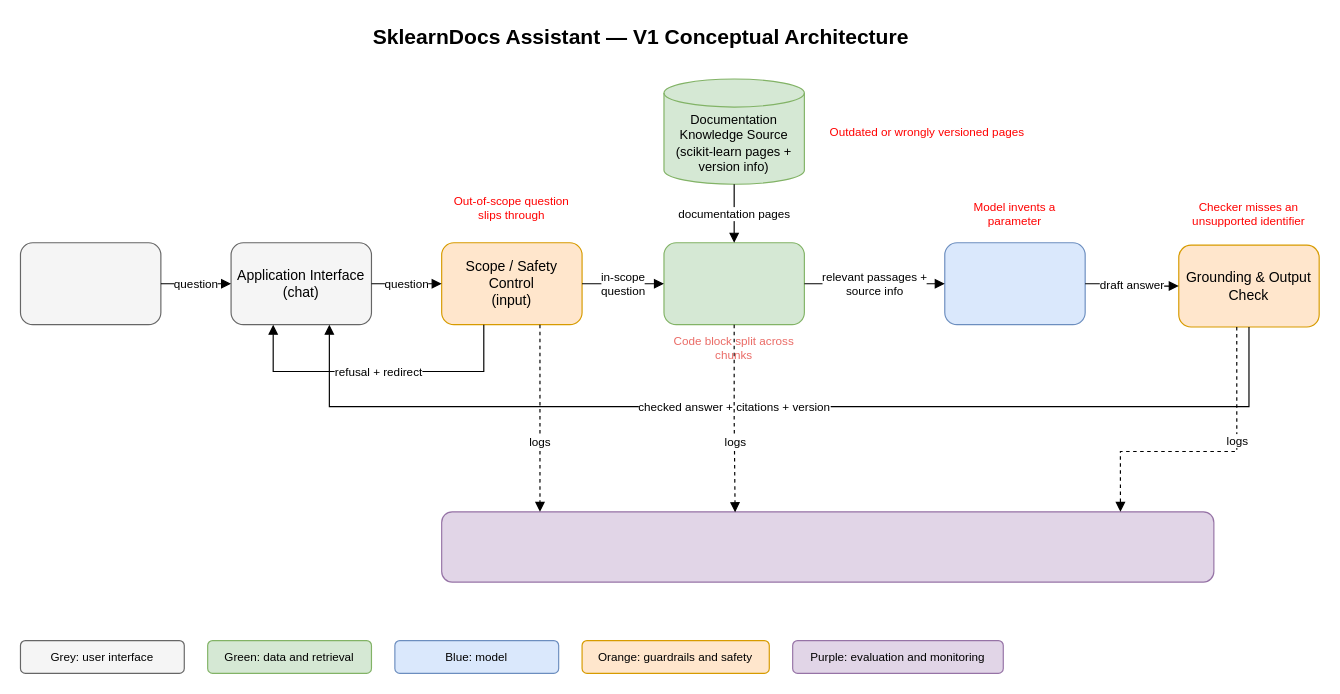
Image size: 1340x694. Some labels were removed from this diagram. The shapes that lost their labels are listed below. From the top down, each one's centre as x and y in pixels, then its label:
[90,283]: User (student / developer)
[733,283]: Knowledge Access (retrieval)
[1014,283]: Language Model Service
[827,546]: Evaluation Point (question set, logs of latency, cost and citations)
